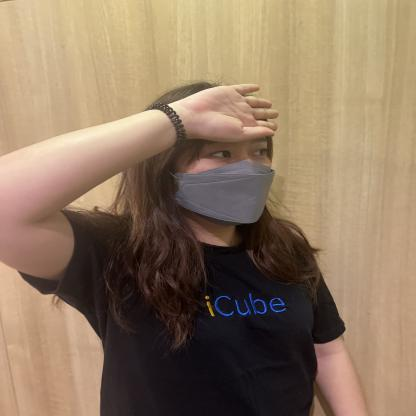Sick: (60, 49, 338, 167)
